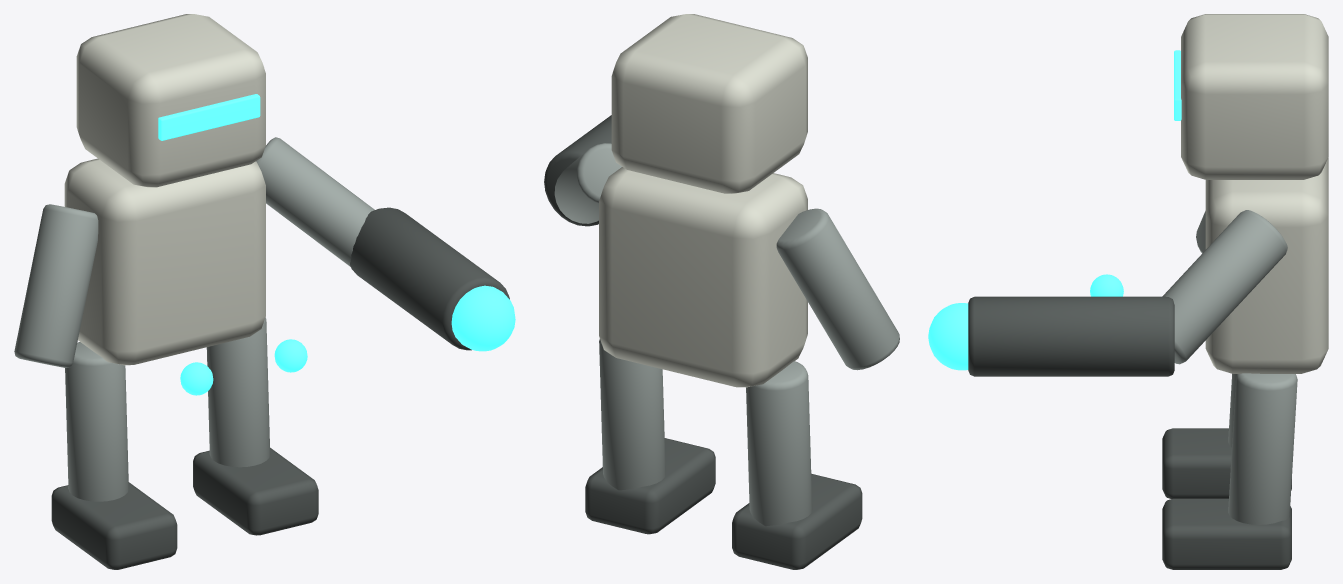
The model's file is card_pulse.glb.
3 renders of one model, left to right at view 1: azimuth 30°, elevation 25°; view 2: azimuth 150°, elevation 25°; view 3: azimuth 270°, elevation 25°, orthographic. The views are drawn at different scales.
Parts seen in each view (by area): view 1: card_pulse; view 2: card_pulse; view 3: card_pulse.
Part boxes in pixels (x1,y1,x2,y2): card_pulse: (14,14,515,569); card_pulse: (544,14,899,569); card_pulse: (928,14,1328,569).
Size of the model in its own units: 1.4 by 1.73 by 1.3.
